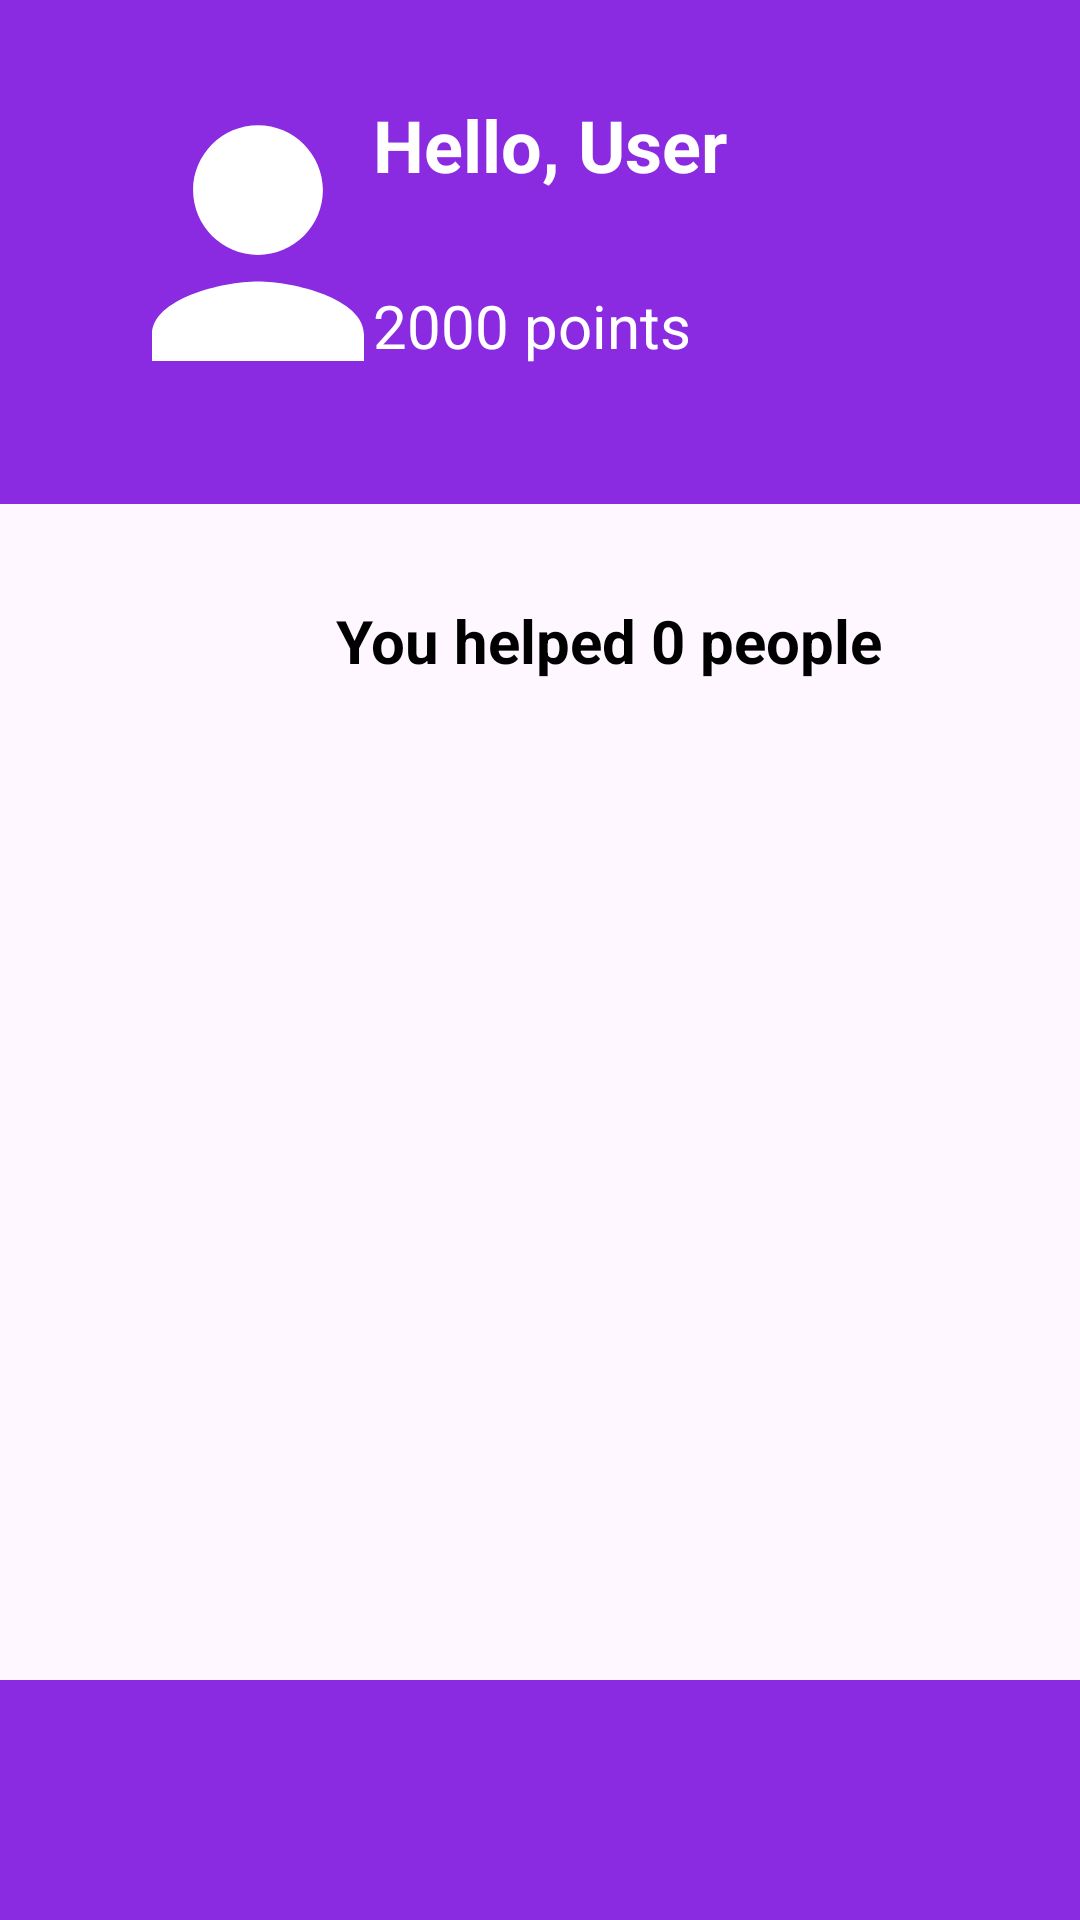

Icons on this 1080×1920 Android screen, each with its box as (x1=x1, y1=y1, x2=x2, y2=y2):
profile: (x1=152, y1=125, x2=364, y2=361)
